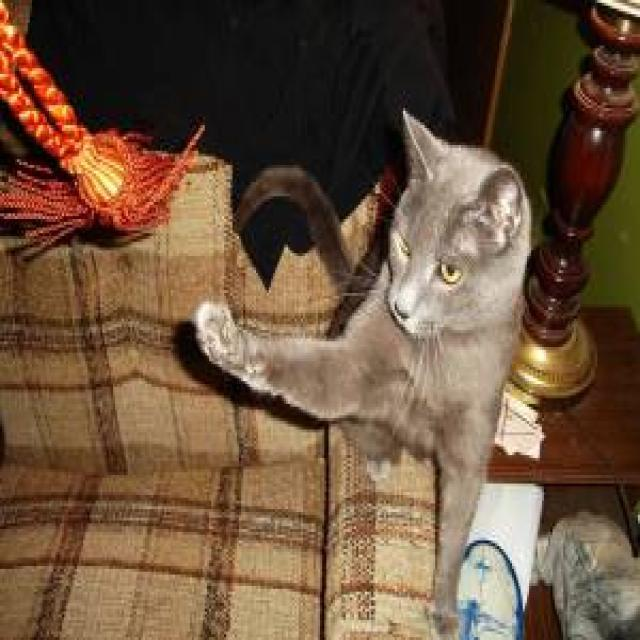Russian_Blue: (379, 105, 536, 365)
